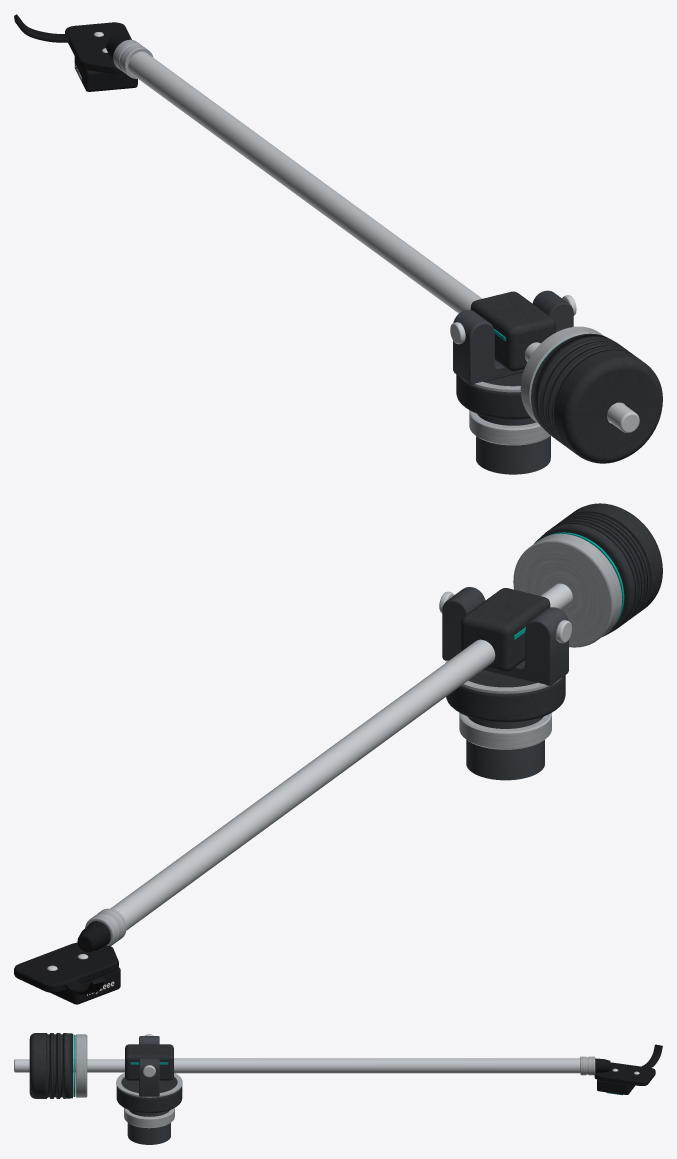
The model's file is nayzeee_tt_arm.glb.
3 views of the same model, one above another, from view 1: azimuth 30°, elevation 25°; view 2: azimuth 150°, elevation 25°; view 3: azimuth 270°, elevation 25° (orthographic). The views are drawn at different scales.
Visible parts, largest first — view 1: nayzeee_tt_arm; view 2: nayzeee_tt_arm; view 3: nayzeee_tt_arm.
Boxes of the visible parts, x1,y1,x2,y2 form: nayzeee_tt_arm: (14,14,662,474); nayzeee_tt_arm: (14,503,662,1004); nayzeee_tt_arm: (14,1033,662,1144).
Size of the model in its own units: 0.0415 by 0.0585 by 0.345.
10 materials, 10 textured.
